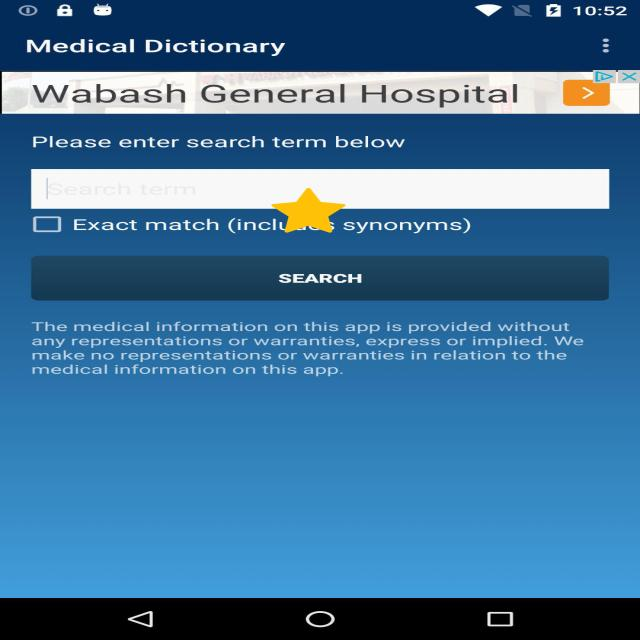forced continuity: (272, 188, 346, 233)
